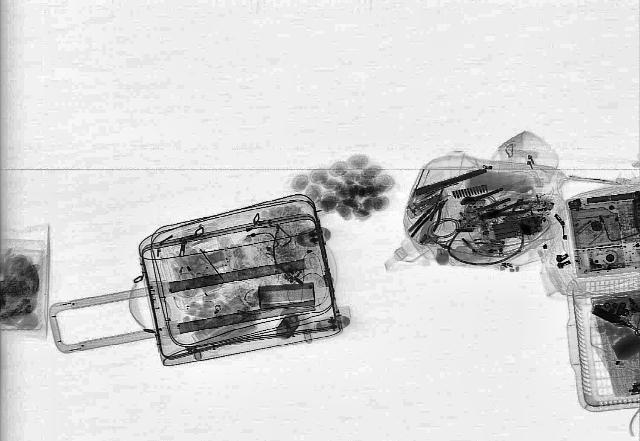Pliers: (409, 194, 451, 242), (474, 198, 536, 226)
Wrench: (455, 182, 507, 208)
